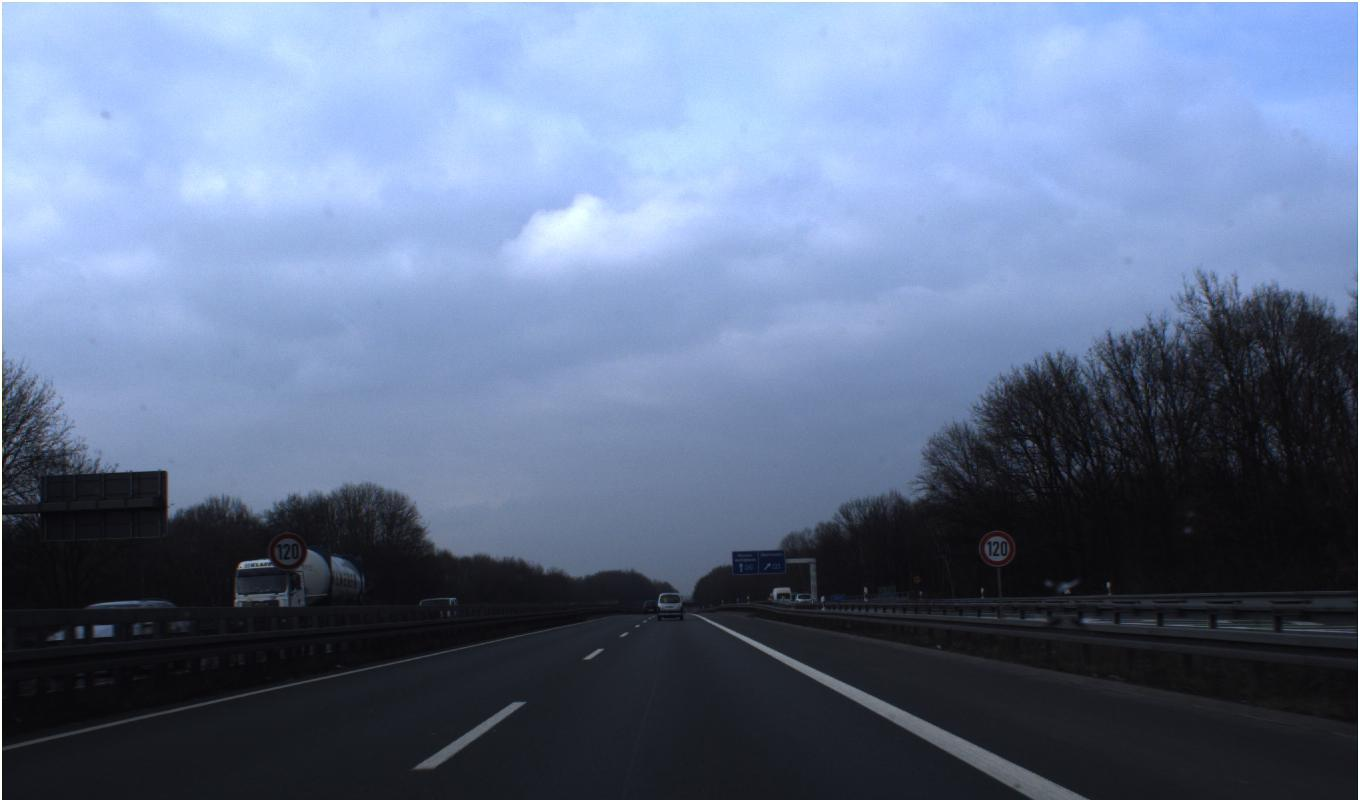prohibitory: (267, 531, 307, 571), (977, 529, 1016, 568)
